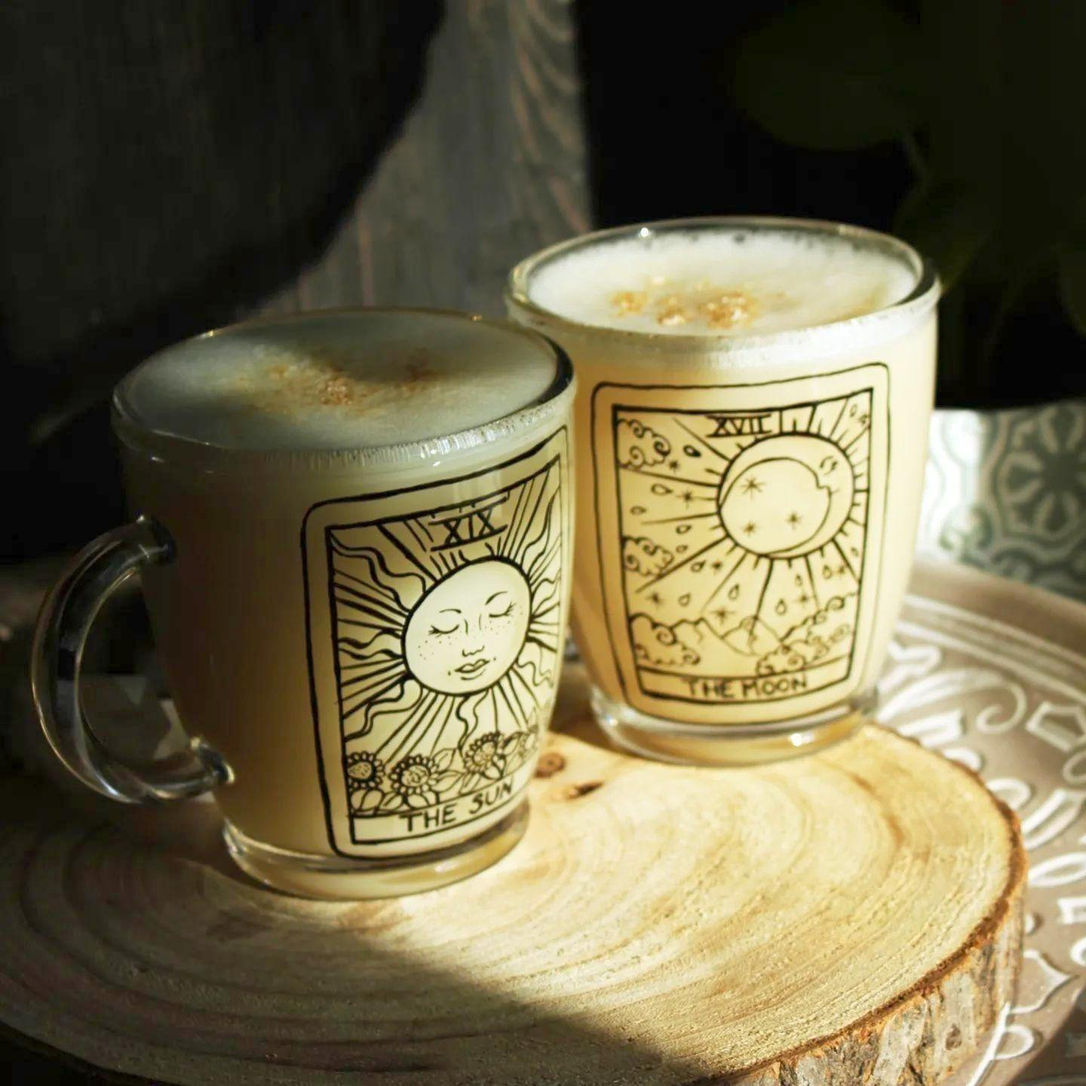glass-mug: (31, 304, 588, 909), (508, 203, 952, 774)
